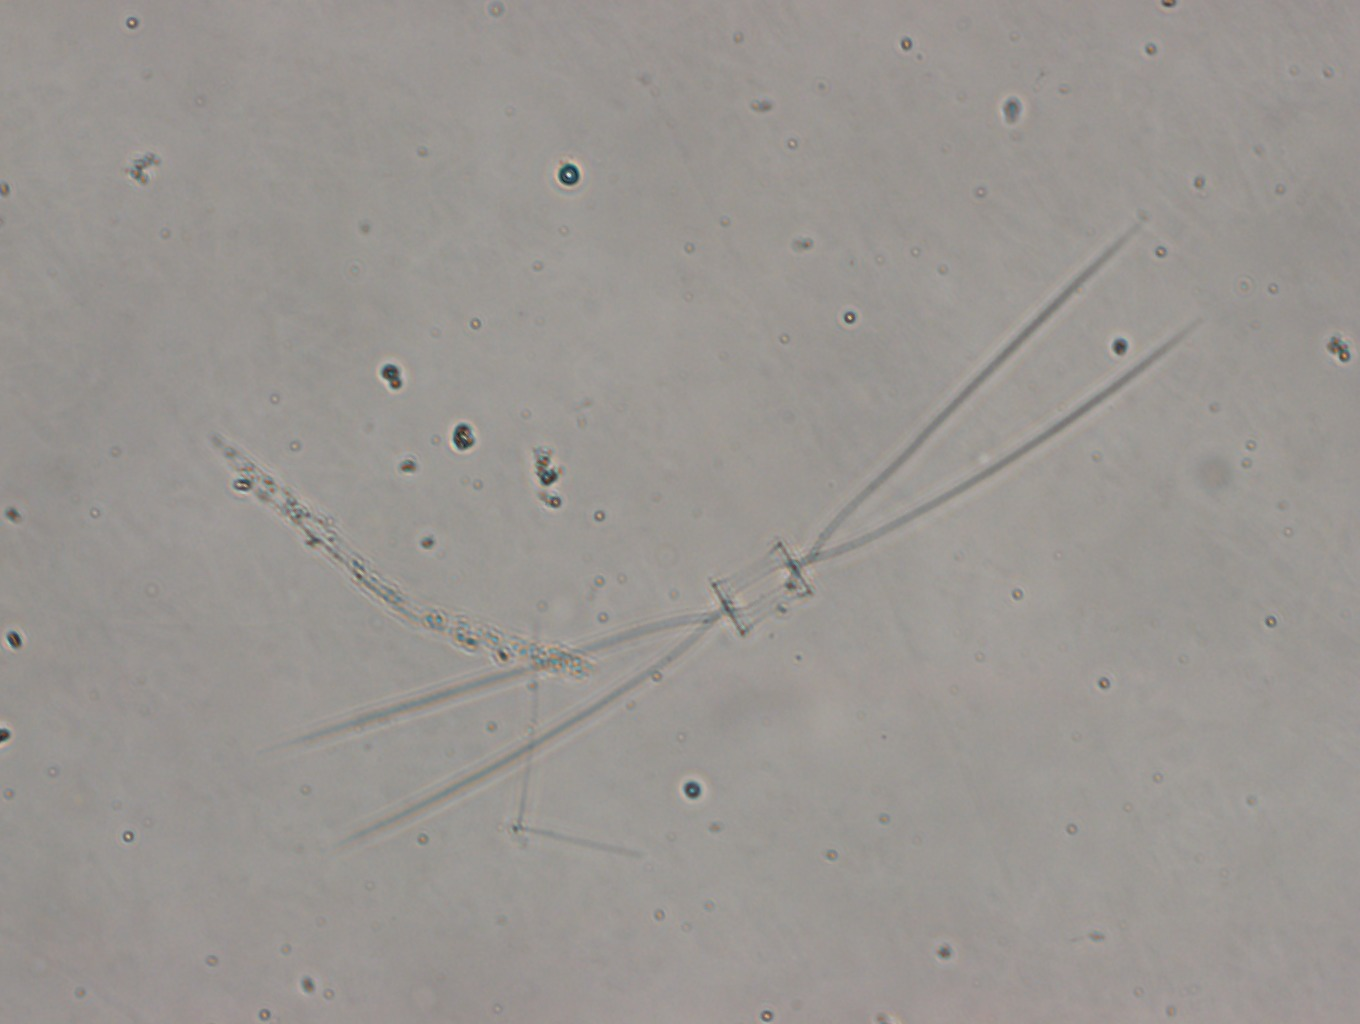chaetoceros: (285, 191, 1203, 855)
